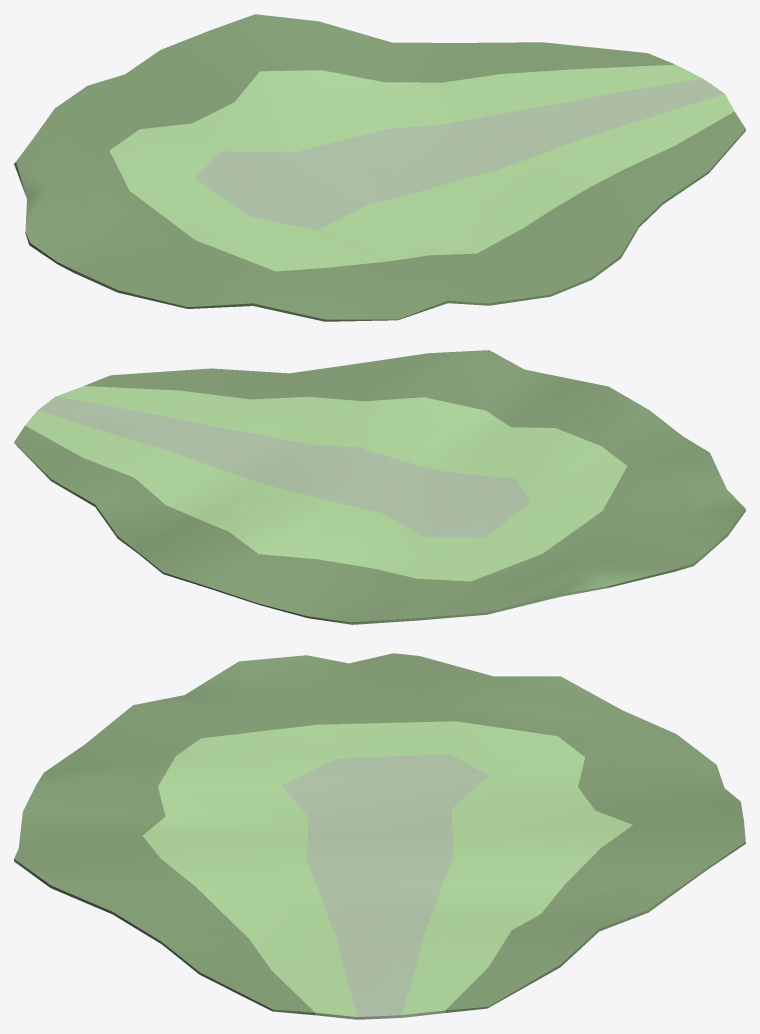
The model's file is lettuceLeaf.fbx.
The picture shows the model from 3 angles, top to bottom: view 1: azimuth 30°, elevation 25°; view 2: azimuth 150°, elevation 25°; view 3: azimuth 270°, elevation 25°; orthographic projection. The views are drawn at different scales.
Parts seen in each view (by area): view 1: lettuce; view 2: lettuce; view 3: lettuce.
Boxes of the visible parts, bbox=[...] form: lettuce: bbox=[14, 14, 745, 321]; lettuce: bbox=[14, 350, 745, 624]; lettuce: bbox=[14, 653, 745, 1019].
Size of the model in its own units: 11.49 by 0.448 by 9.89.
